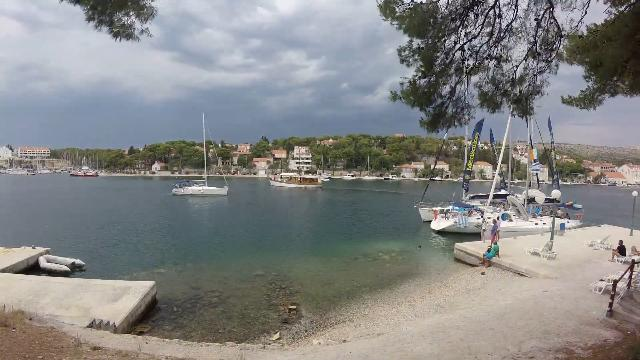Freighter: (262, 166, 328, 192)
Sailboat: (167, 176, 235, 202)
